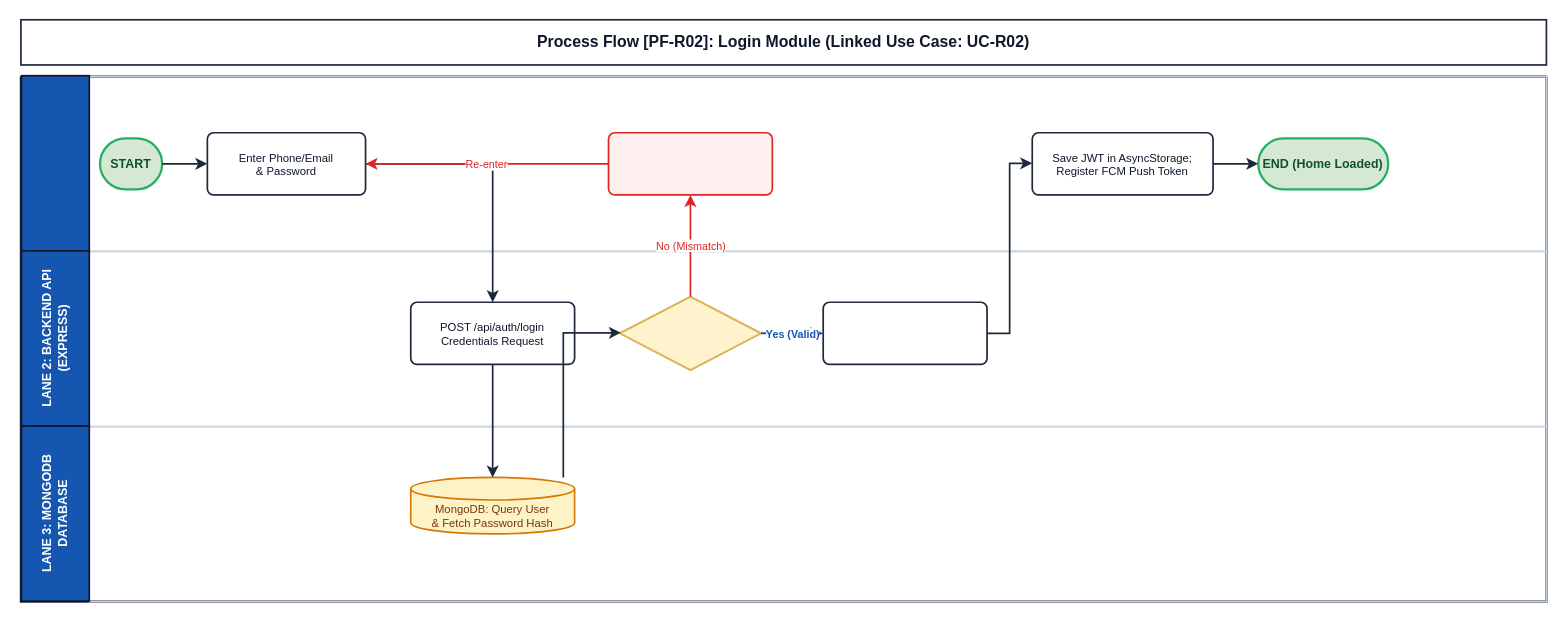
This 1566x623 diagram has some shape labels left out. Here are the shapes that lost their labels. From the top down, the box of each, then its label:
(20, 74, 90, 251): LANE 1: RESIDENT (MOBILE APP)
(607, 131, 773, 195): Show "Invalid Credentials" Error Alert
(618, 295, 762, 371): Bcrypt Hash Matches?
(822, 301, 987, 365): Sign JWT Token & Return User Profile
